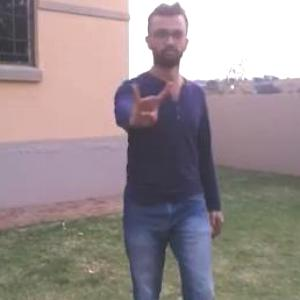takeoff-hand: (114, 70, 179, 132)
